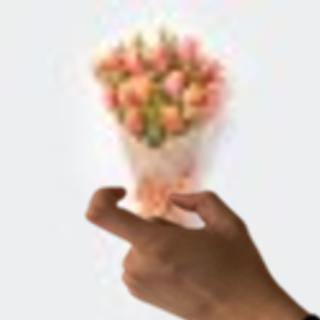HATE: (74, 175, 274, 320)
